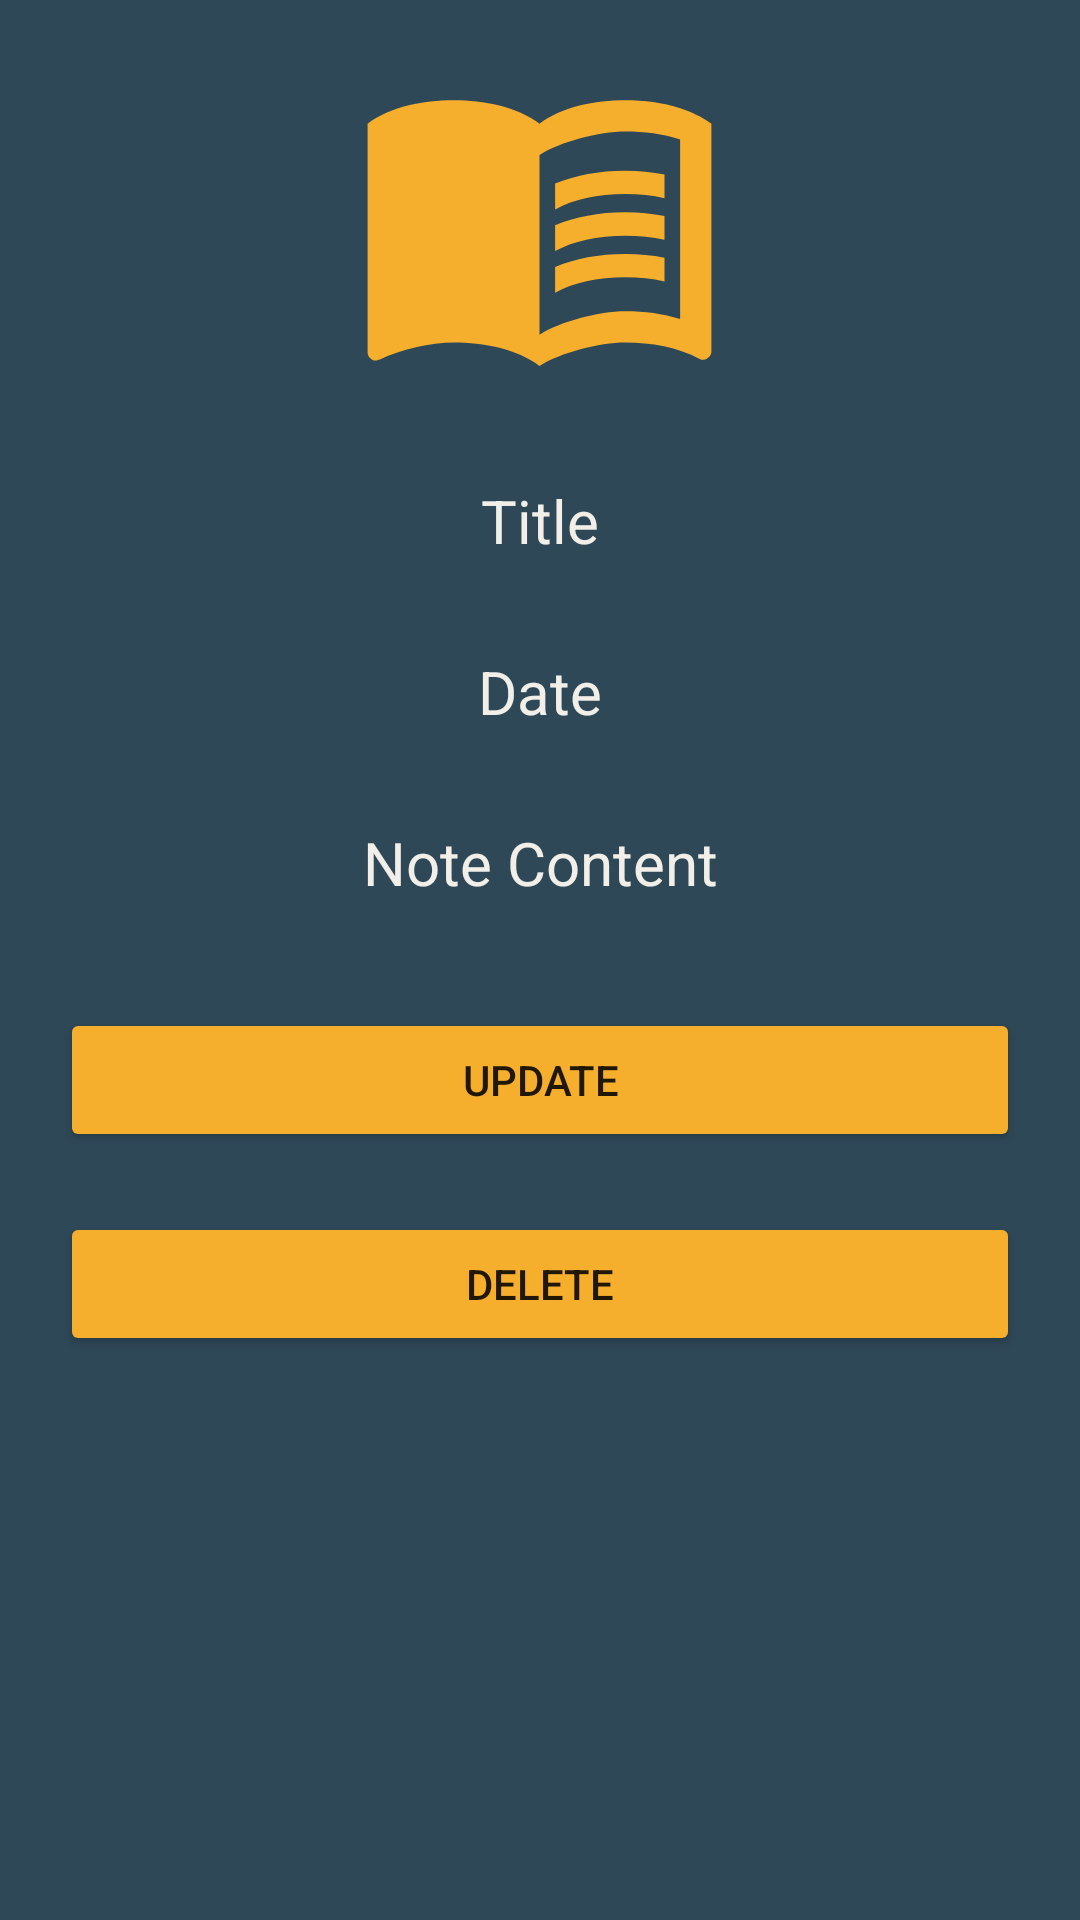

Screen size 1080 × 1920. Icon name, then its box in pixels as rect(x1, y1, x2, y2):
notes: rect(367, 100, 712, 366)
